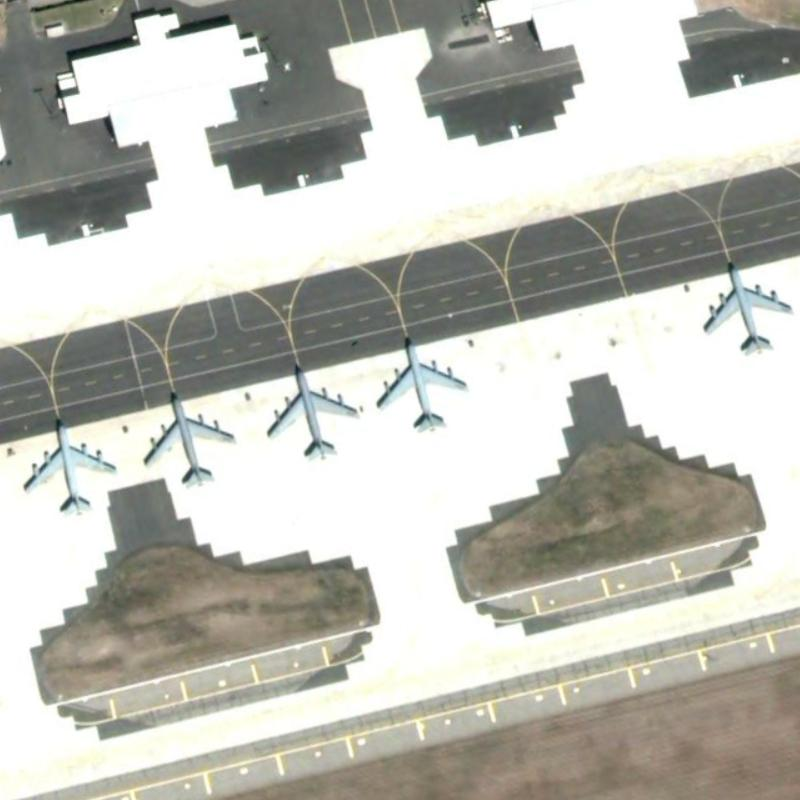A14: (255, 354, 364, 469), (372, 326, 477, 441), (20, 410, 126, 519), (702, 249, 796, 360), (141, 382, 235, 492)
